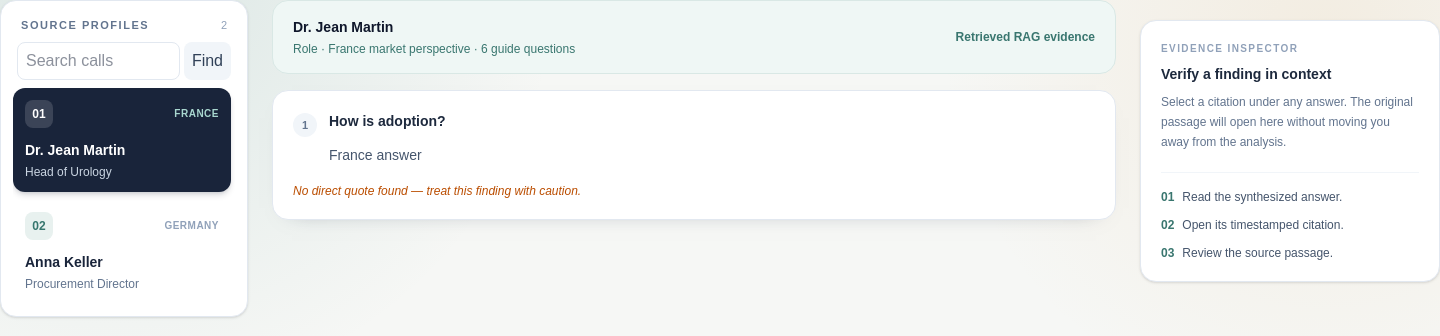
Test: ExpertQAPanel › keeps the latest selected source visible after its request resolves
Check: the text "France answer" is shown, box x1=329 y1=147 x2=422 y2=163
Click the button "02 GERMANY Anna Keller Procurement Director".
click(122, 252)  # box x1=13 y1=200 x2=231 y2=304
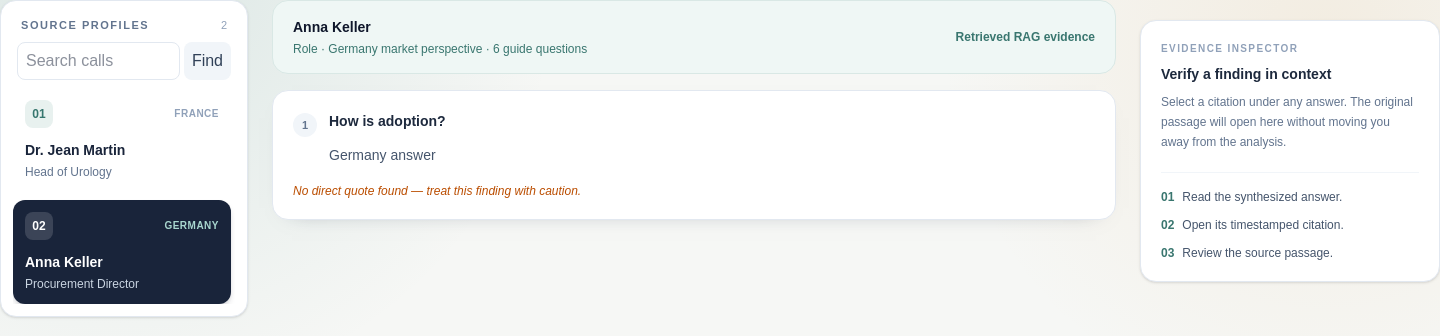
Check: the text "Germany answer" is shown, box x1=329 y1=143 x2=446 y2=167
